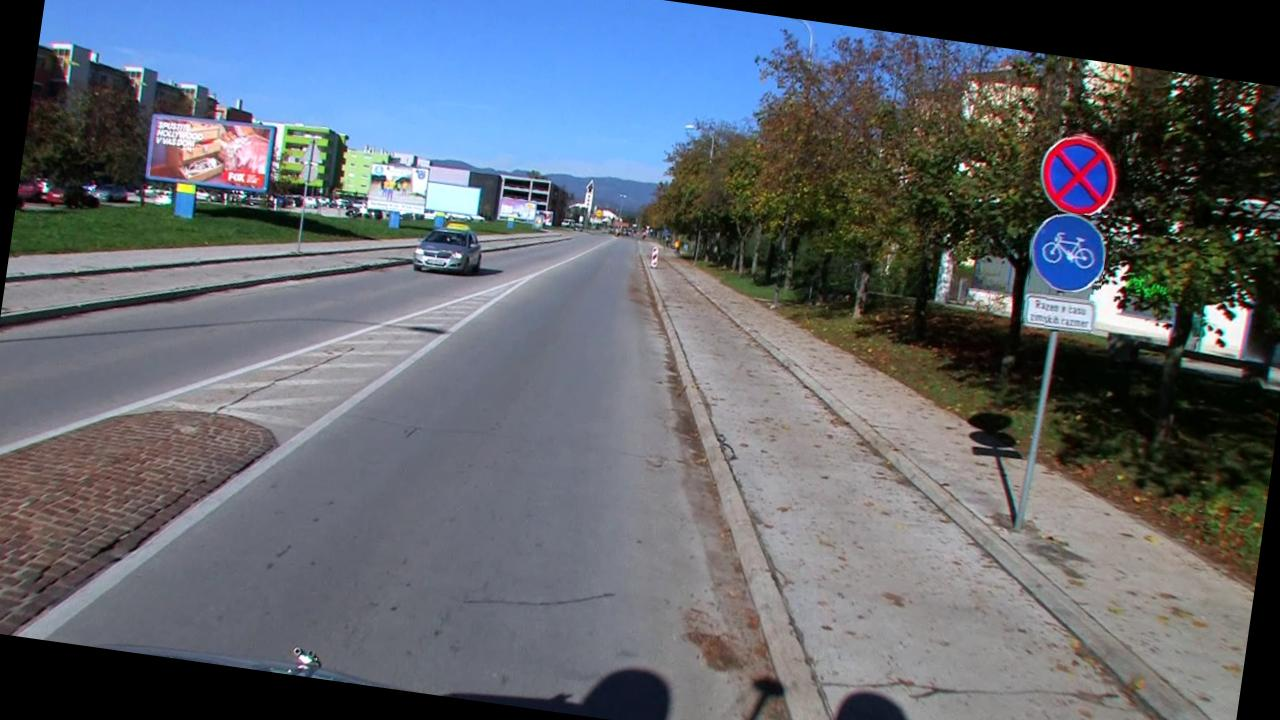Rectangle: (1020, 290, 1098, 334)
Round: (1034, 128, 1122, 219), (1024, 207, 1110, 296)
